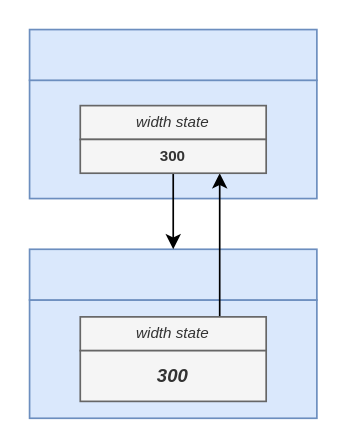
The diagram is 346 pixels wide and 448 high, and some of its shapes have lost their labels. Here are the shapes that lost their labels. From the top down, the centre of each, then its label:
(172,54): Resizable
(172,274): ResizableBox
